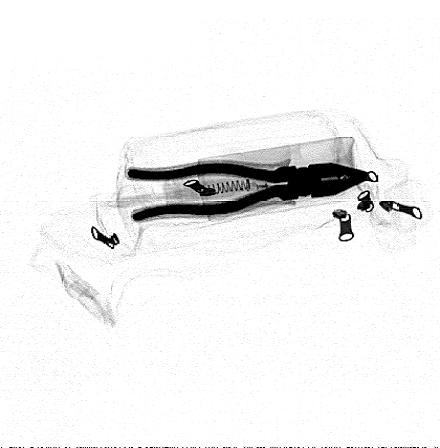Pliers: (126, 161, 368, 223)
